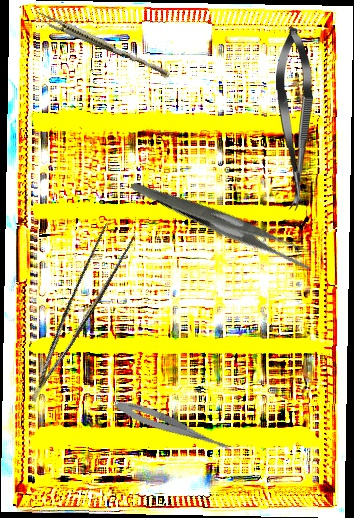Dressing Forceps: (129, 132, 321, 312)
Micro Scissor: (111, 395, 238, 457), (275, 26, 315, 212)
Tissue Forceps: (3, 215, 143, 403), (33, 9, 173, 80)
